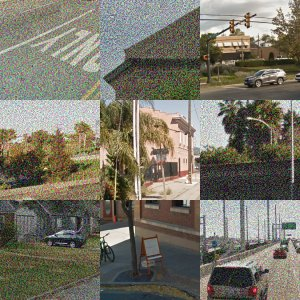公車: (201, 200, 289, 288), (55, 208, 100, 262), (24, 53, 72, 78)
棕梠樹: (125, 4, 202, 100)
汽車: (112, 271, 140, 290)
紅綠燈: (116, 231, 155, 248)
行人穿越道: (200, 48, 300, 72)
